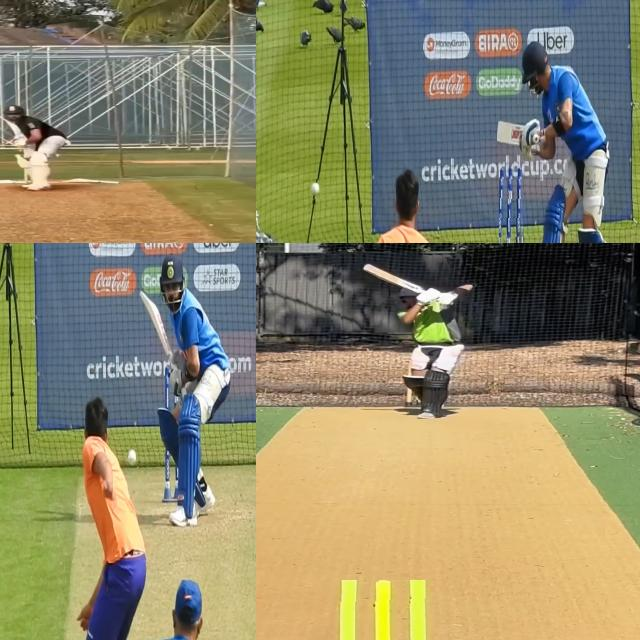Cricket ball: (126, 446, 139, 470), (310, 179, 322, 199)
Stumps: (321, 580, 451, 640), (498, 168, 526, 243)
